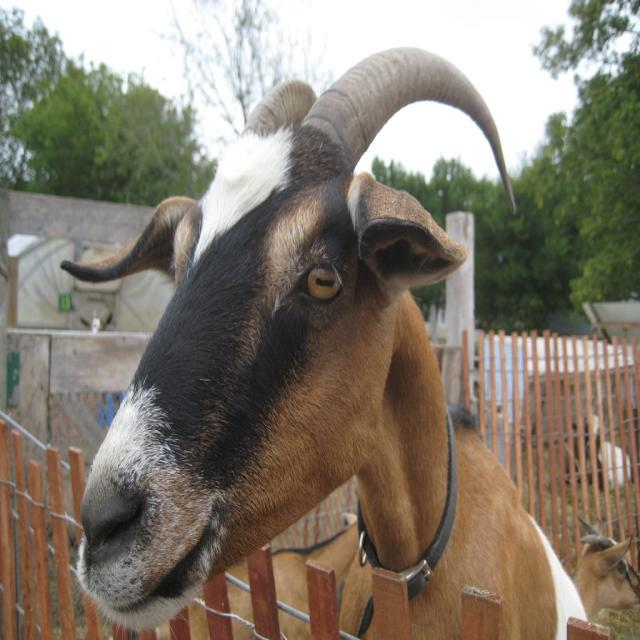Goat: (60, 44, 589, 638)
